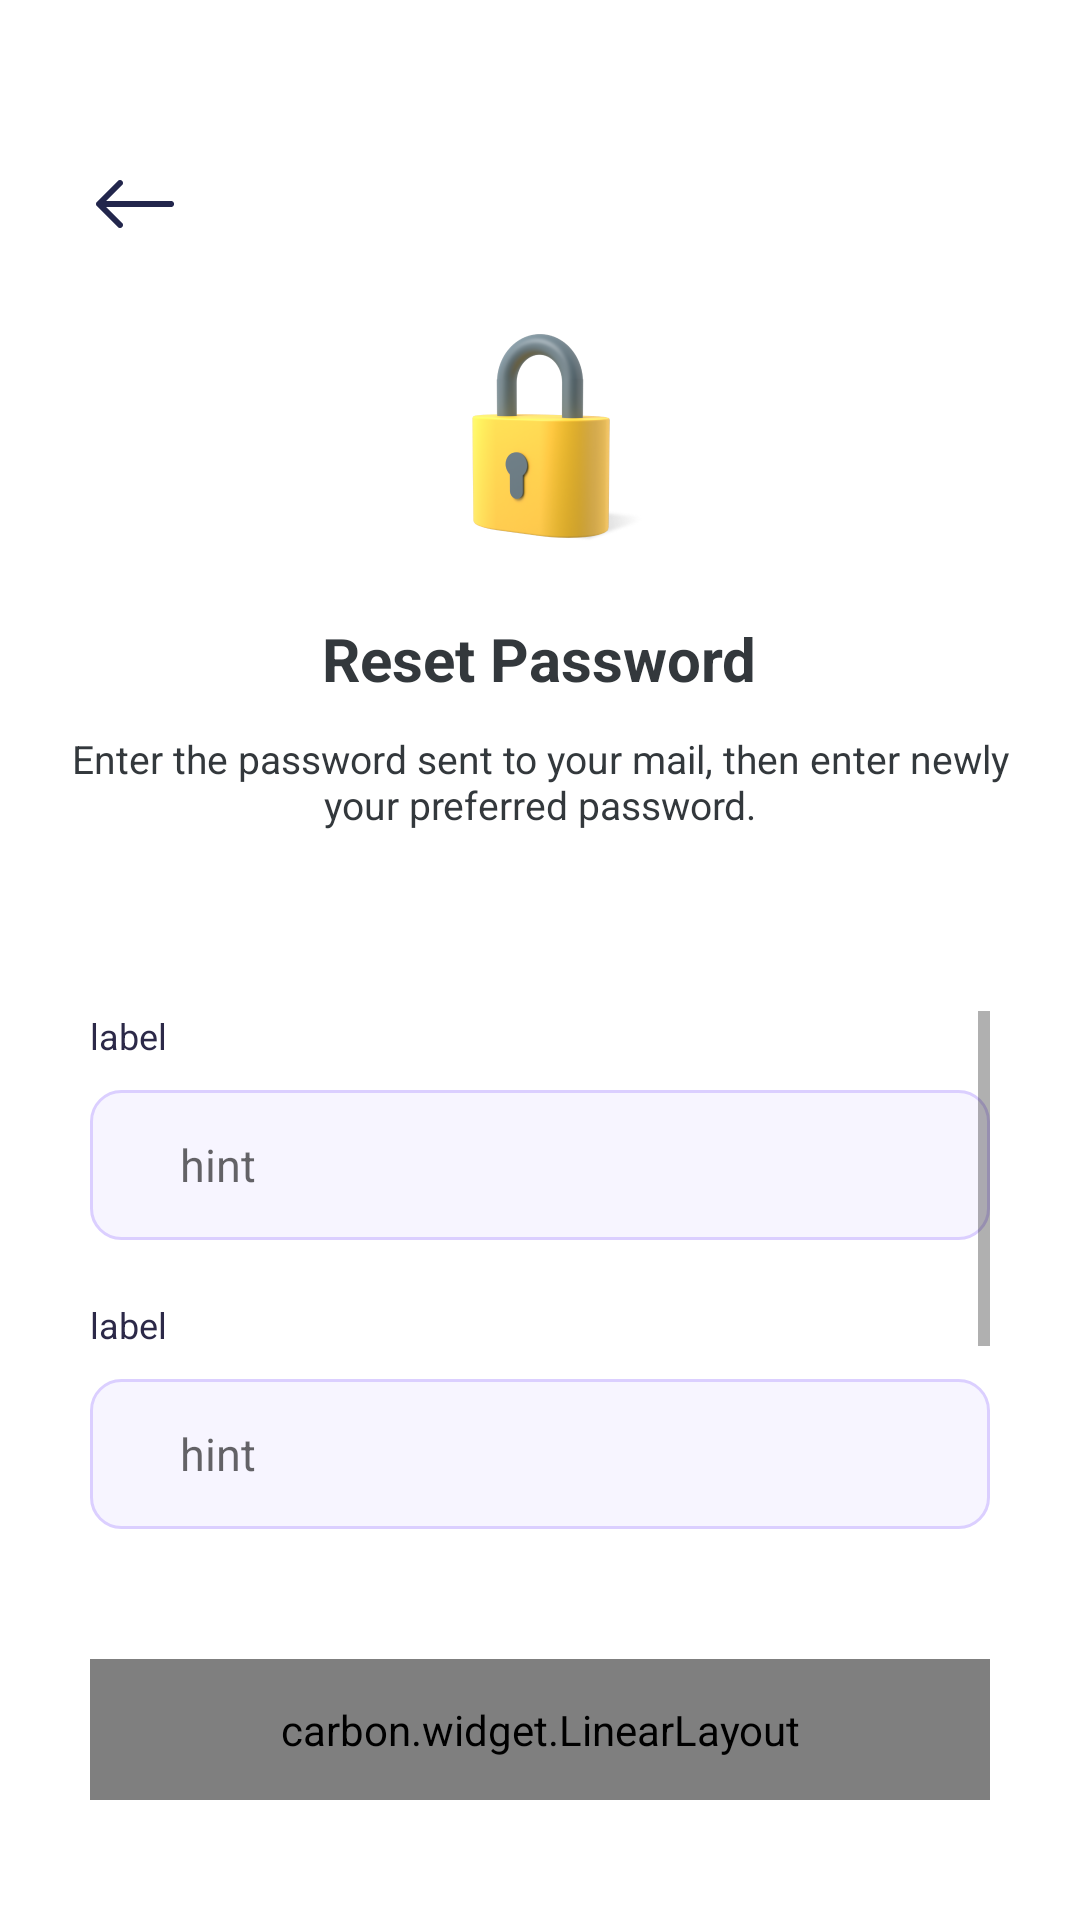

Icon click points for this 1080*1920 phone screenshot, format (x,y):
arrow left: (135,204)
lock: (543,436)
